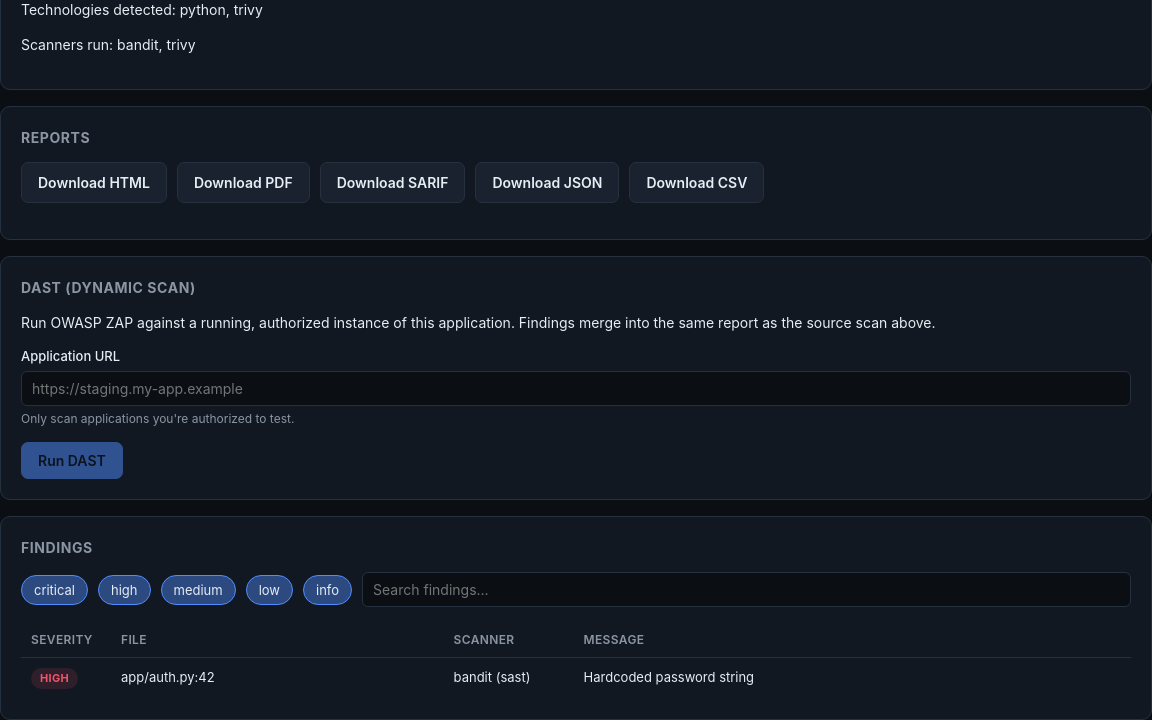
CodeScanDetail › filters findings by severity, and re-adding a severity brings its findings back
(page scrolled)
Expected: the text "Hardcoded password string" is shown, [574,658,1131,698]
Click the button "high" at coordinates (124, 590), box [98,574,150,604]
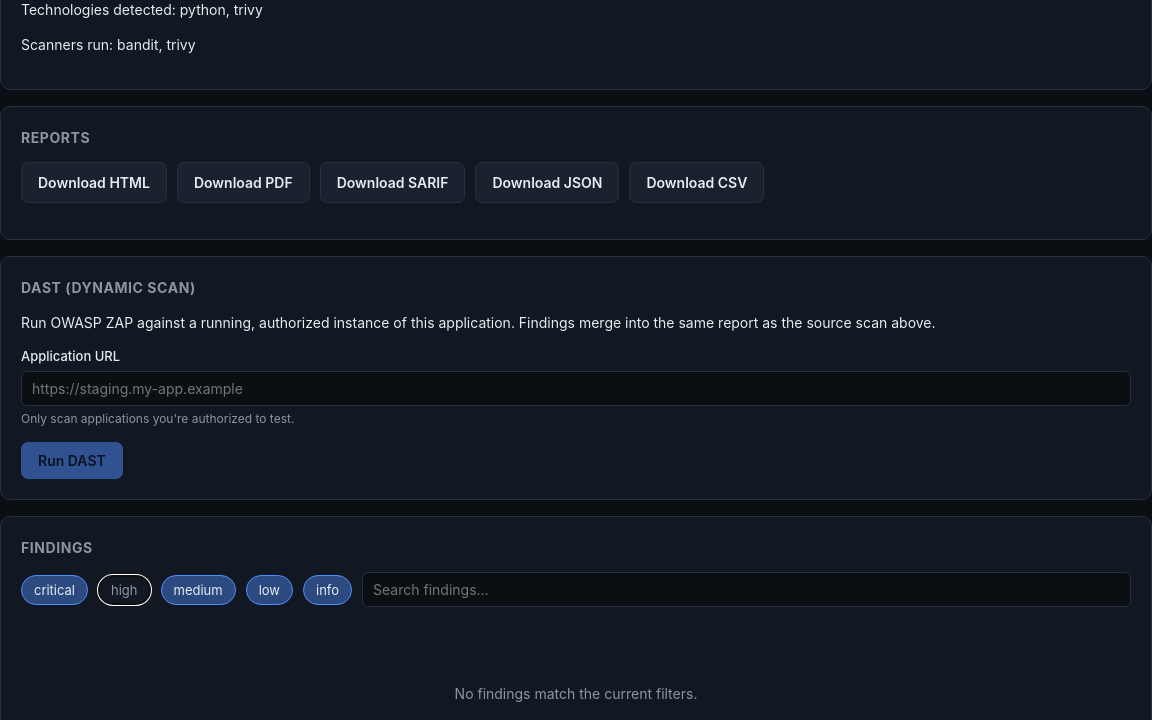
Result: the text "Hardcoded password string" is gone
Result: the text "No findings match the current filters." is shown at [455,685,697,702]
Click the button "high" at coordinates (124, 590), box [98,574,150,604]
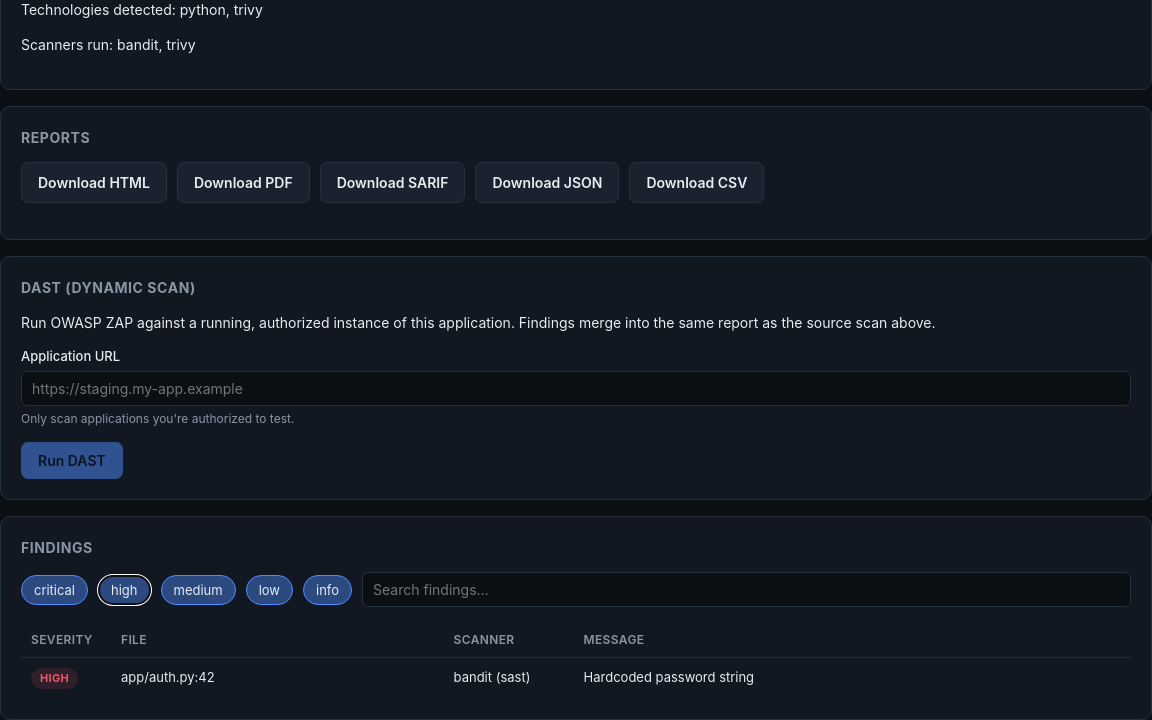
Result: the text "Hardcoded password string" is shown at [574,658,1131,698]
